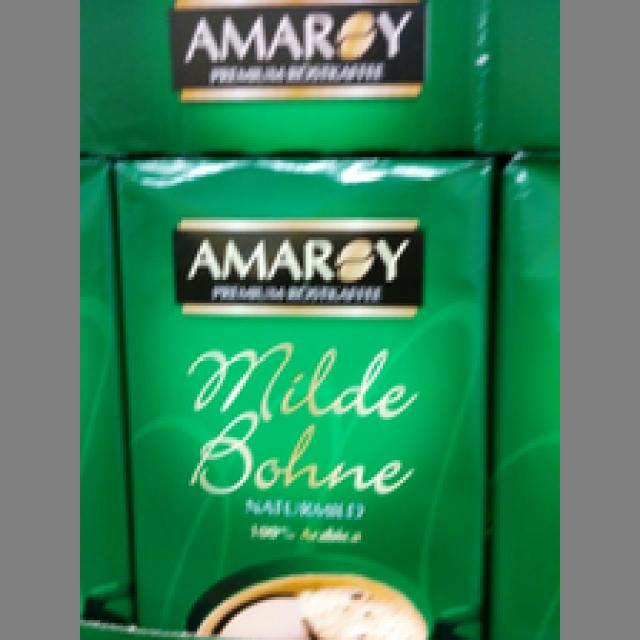groceries: (109, 152, 494, 637)
